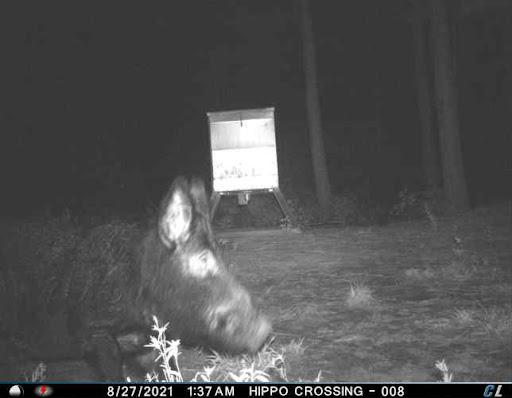Hog: (0, 167, 270, 383)
